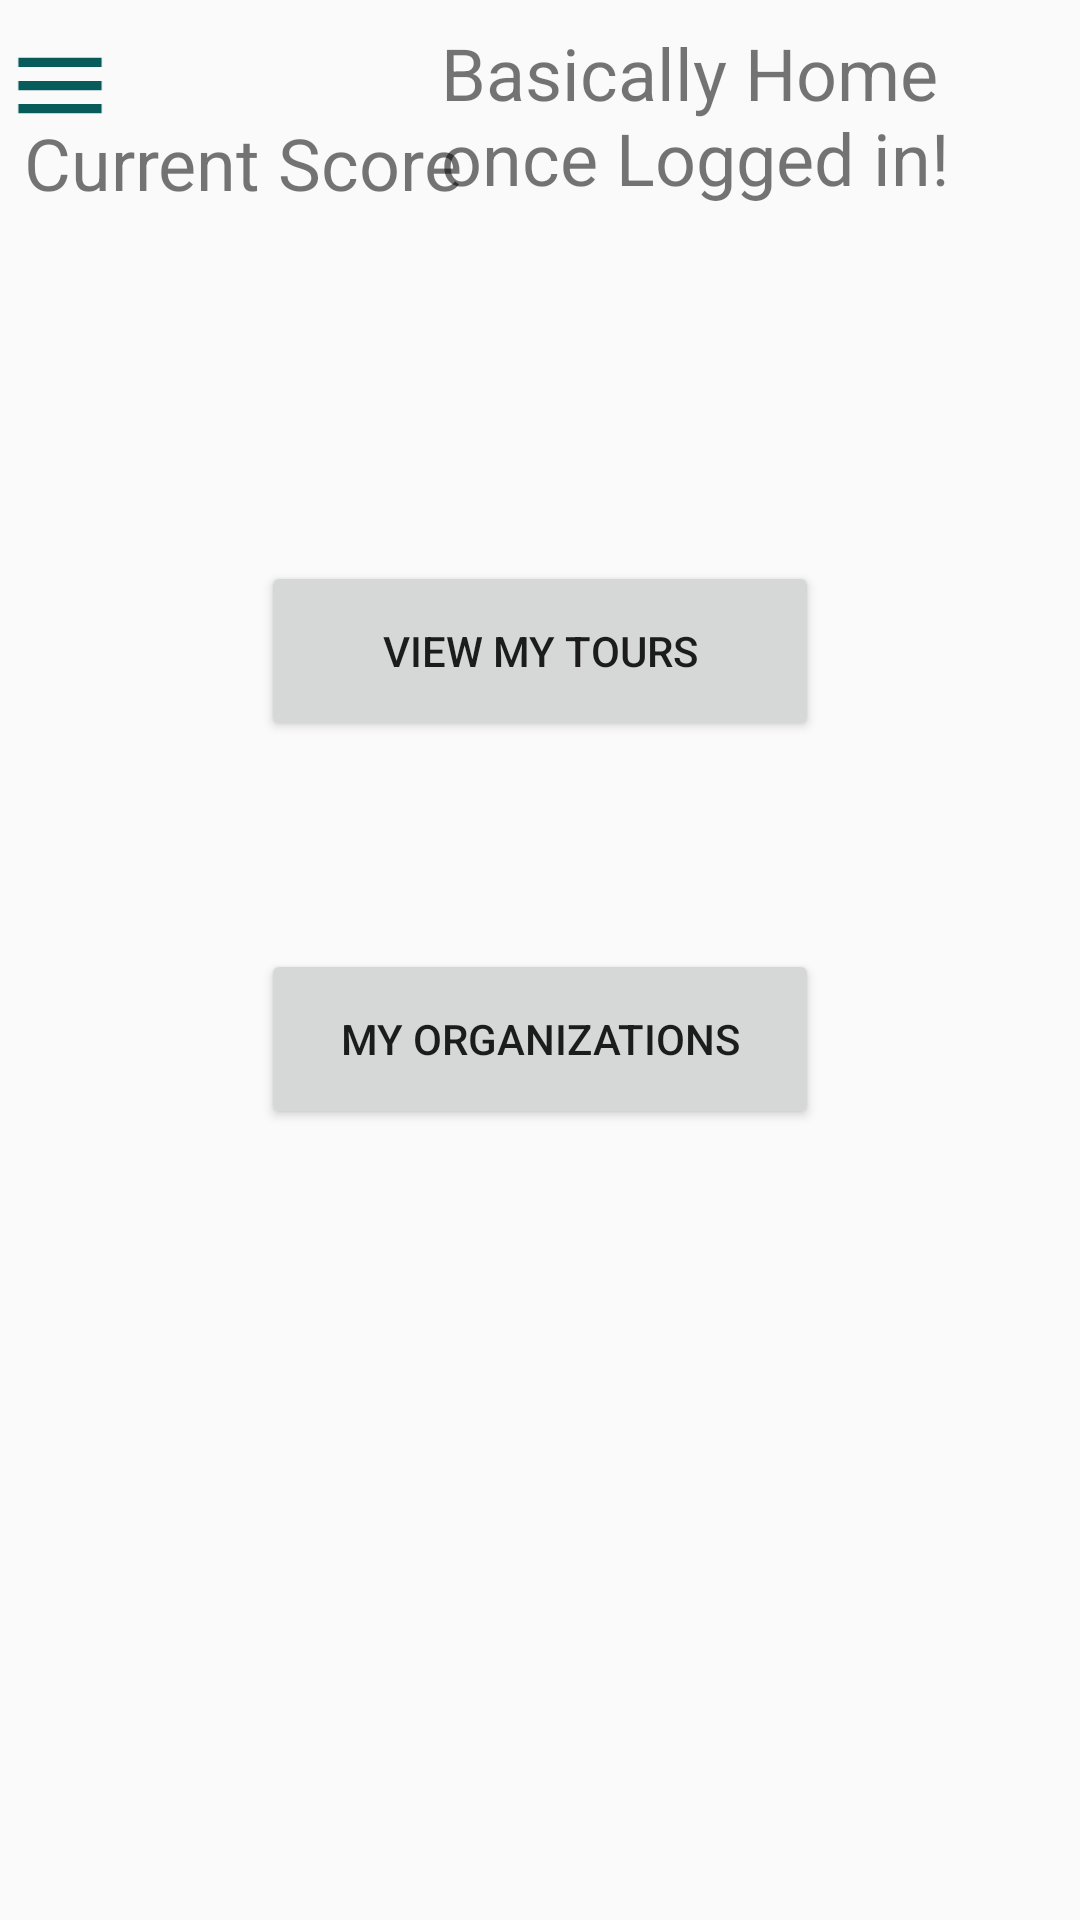

Screen size 1080*1920. Icon name, then its box in pixels as {"x1": x1, "y1": y1, "x2": x2, "y2": y2}:
menu: {"x1": 18, "y1": 57, "x2": 102, "y2": 114}
